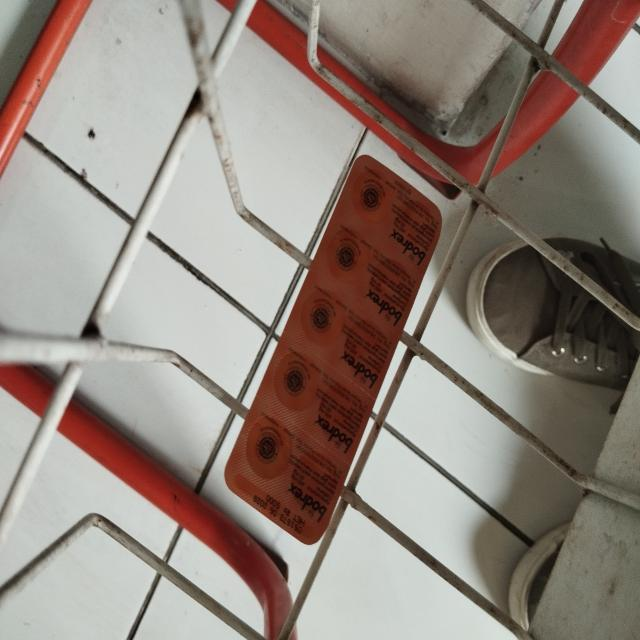B3: (225, 149, 443, 545)
